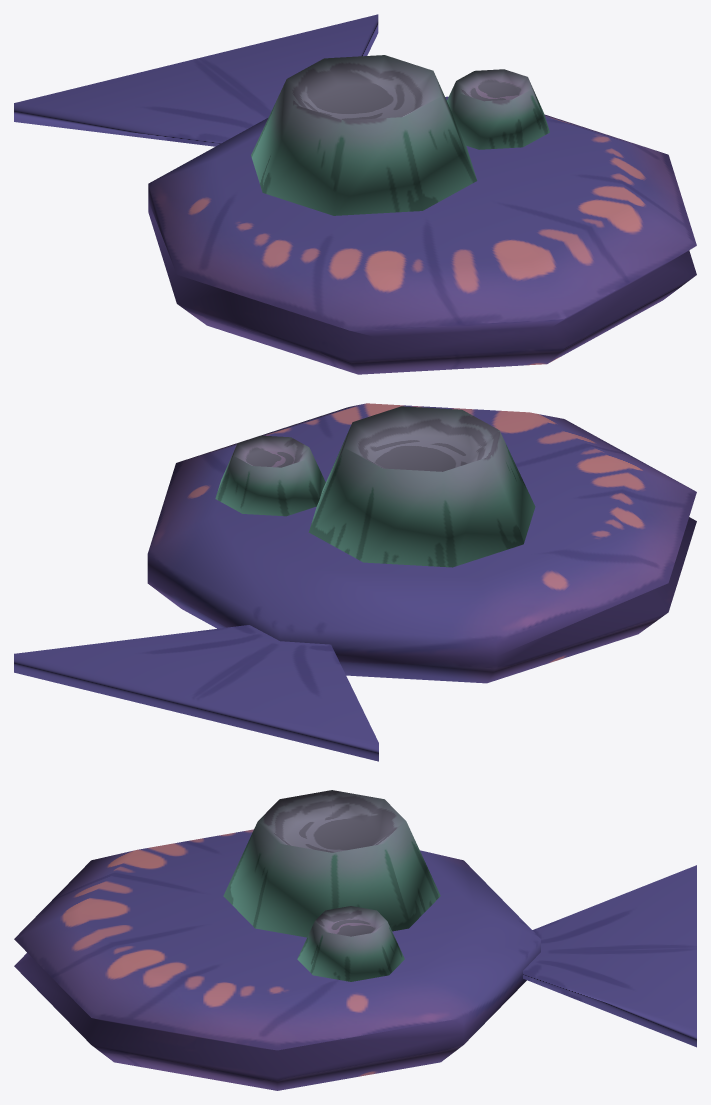
Rendered from Fish_ShellFish.fbx.
The picture shows the model from 3 angles, top to bottom: view 1: azimuth 30°, elevation 25°; view 2: azimuth 150°, elevation 25°; view 3: azimuth 270°, elevation 25°; orthographic projection. The views are drawn at different scales.
Parts seen in each view (by area): view 1: Fish2:pCylinder7, Fish2:pCylinder3, Fish2:pCube1, Fish2:pCylinder6; view 2: Fish2:pCylinder7, Fish2:pCylinder3, Fish2:pCube1, Fish2:pCylinder6; view 3: Fish2:pCylinder7, Fish2:pCylinder3, Fish2:pCube1, Fish2:pCylinder6.
Boxes of the visible parts, x1,y1,x2,y2 form: Fish2:pCylinder7: (148, 96, 696, 374); Fish2:pCylinder3: (251, 55, 477, 215); Fish2:pCube1: (14, 14, 378, 146); Fish2:pCylinder6: (447, 69, 549, 149); Fish2:pCylinder7: (147, 403, 696, 683); Fish2:pCylinder3: (308, 406, 535, 567); Fish2:pCube1: (14, 625, 378, 761); Fish2:pCylinder6: (215, 435, 325, 516); Fish2:pCylinder7: (14, 829, 540, 1090); Fish2:pCylinder3: (223, 790, 440, 937); Fish2:pCube1: (523, 865, 696, 1047); Fish2:pCylinder6: (297, 906, 404, 981).
Bounding box in the file's own units: 4.97 × 1.65 × 6.44.
Materials: 1 (1 with a texture image).
